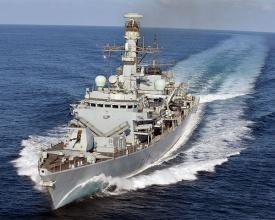warship: (33, 12, 201, 199)
